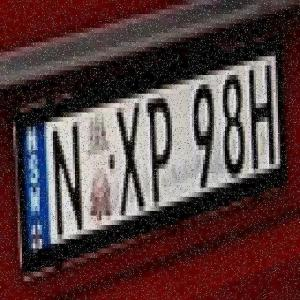Plate: (9, 29, 288, 280)
